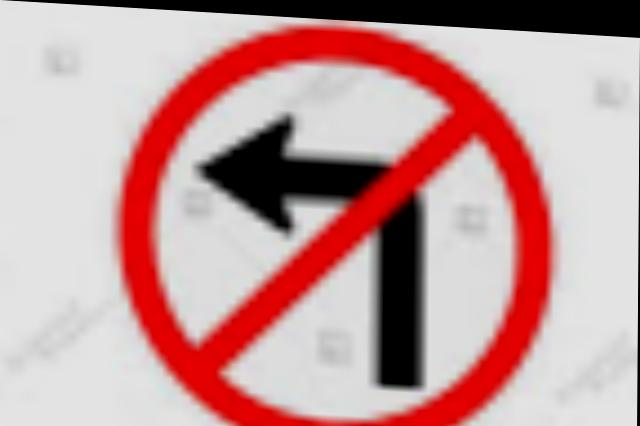not_turn_left: (81, 15, 560, 426)
